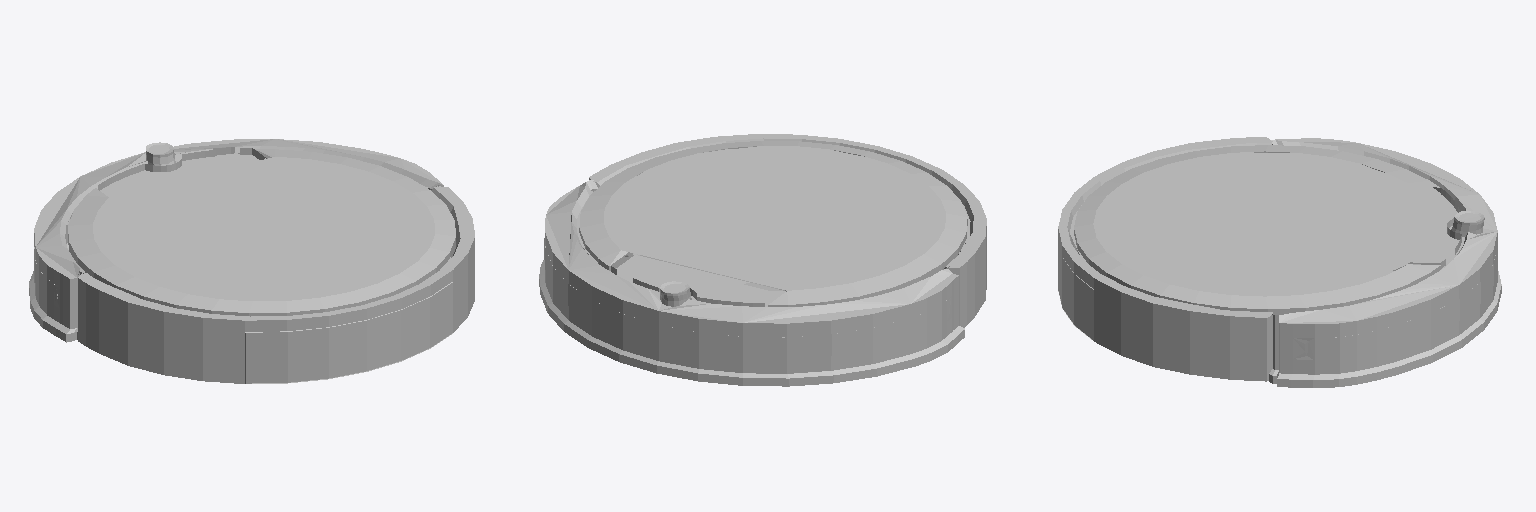
The model's file is roomba.obj.
3 renders of one model, left to right at view 1: azimuth 30°, elevation 25°; view 2: azimuth 150°, elevation 25°; view 3: azimuth 270°, elevation 25°, orthographic.
Parts seen in each view (by area): view 1: irobot_i7; view 2: irobot_i7; view 3: irobot_i7.
Part boxes in pixels (x1,y1,x2,y2): irobot_i7: (29,139,474,383); irobot_i7: (539,134,986,386); irobot_i7: (1058,137,1501,387).
Bounding box in the file's own units: 2.54 × 0.4727 × 2.48.